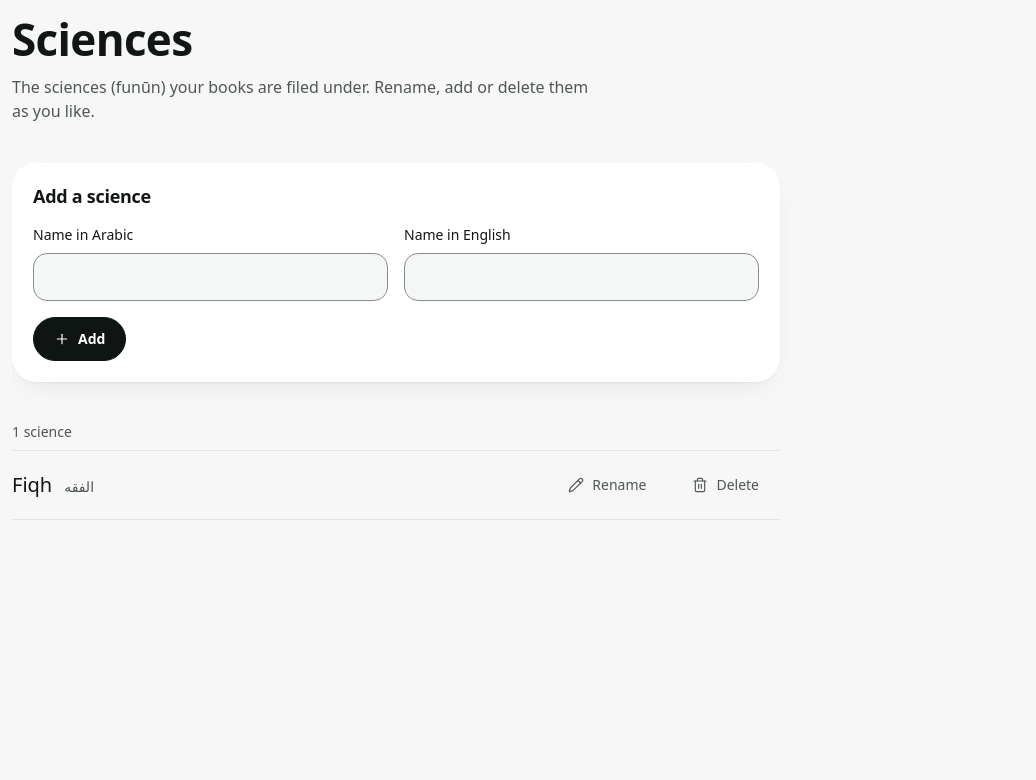
Test: SciencesPage › explains that a science used by books cannot be deleted
The image size is (1036, 780).
Step 1. Click the button with aria-label "Delete Fiqh" → (726, 485), box [671,463,780,507]
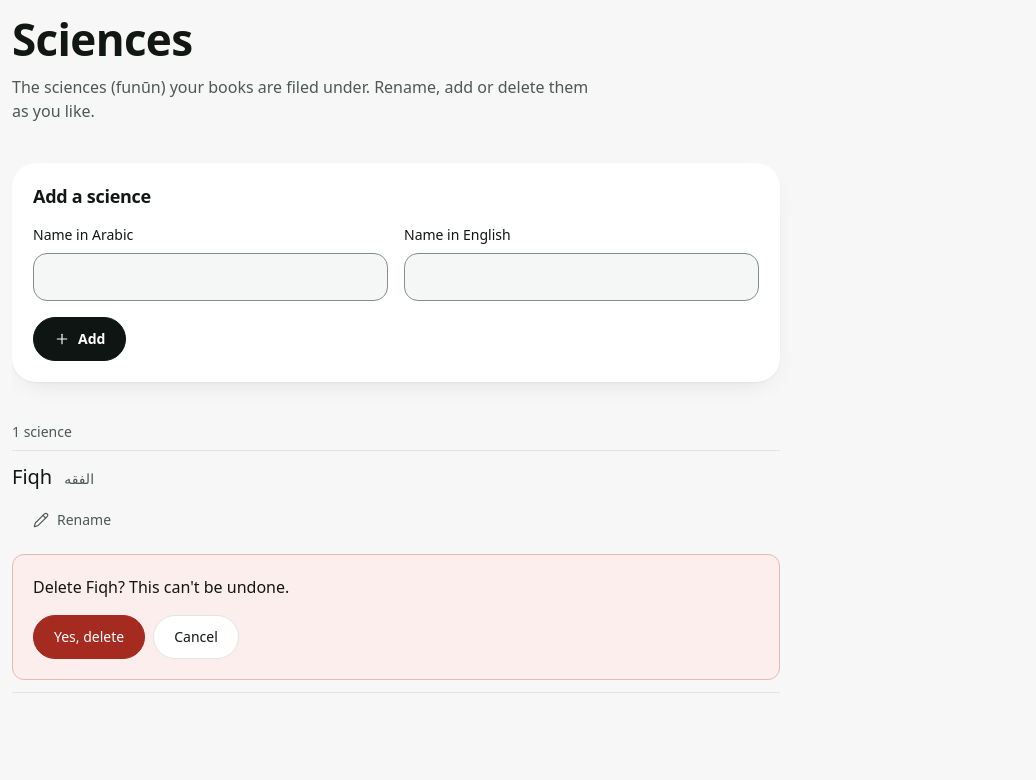
Expected: the text "Delete Fiqh? This can't be undone." is shown, [33,576,289,598]
Step 2. Click the button "Yes, delete" → (89, 637), box [33,615,145,659]
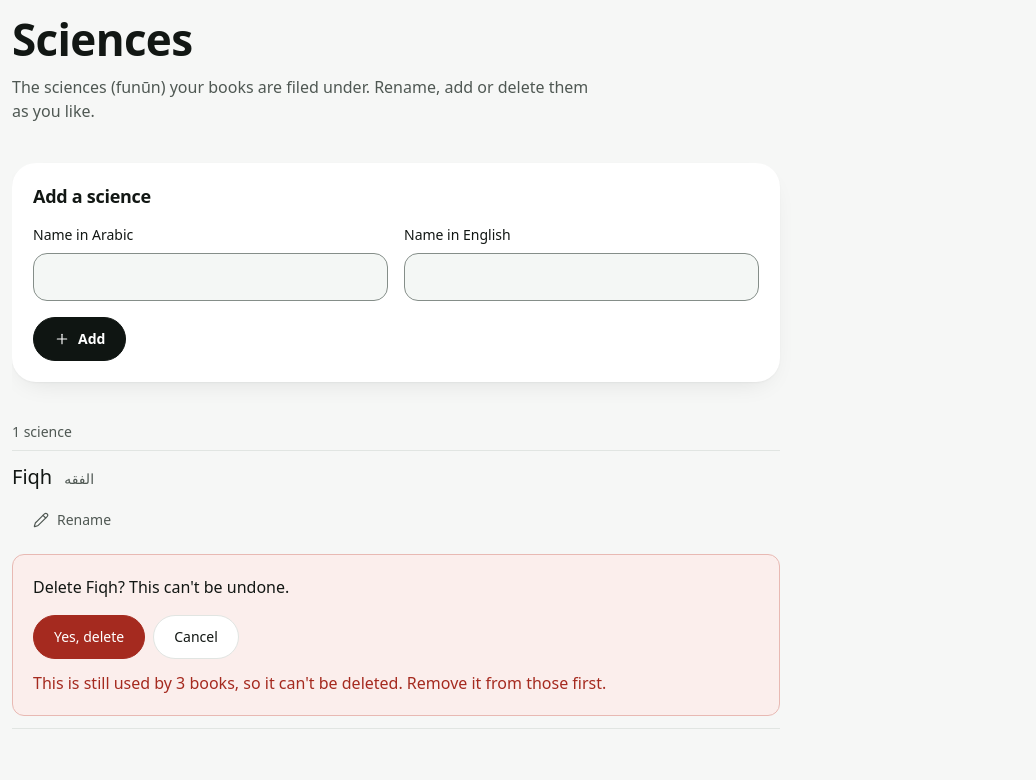
Expected: the message shows "This is still used by 3 books", [33,672,606,694]
